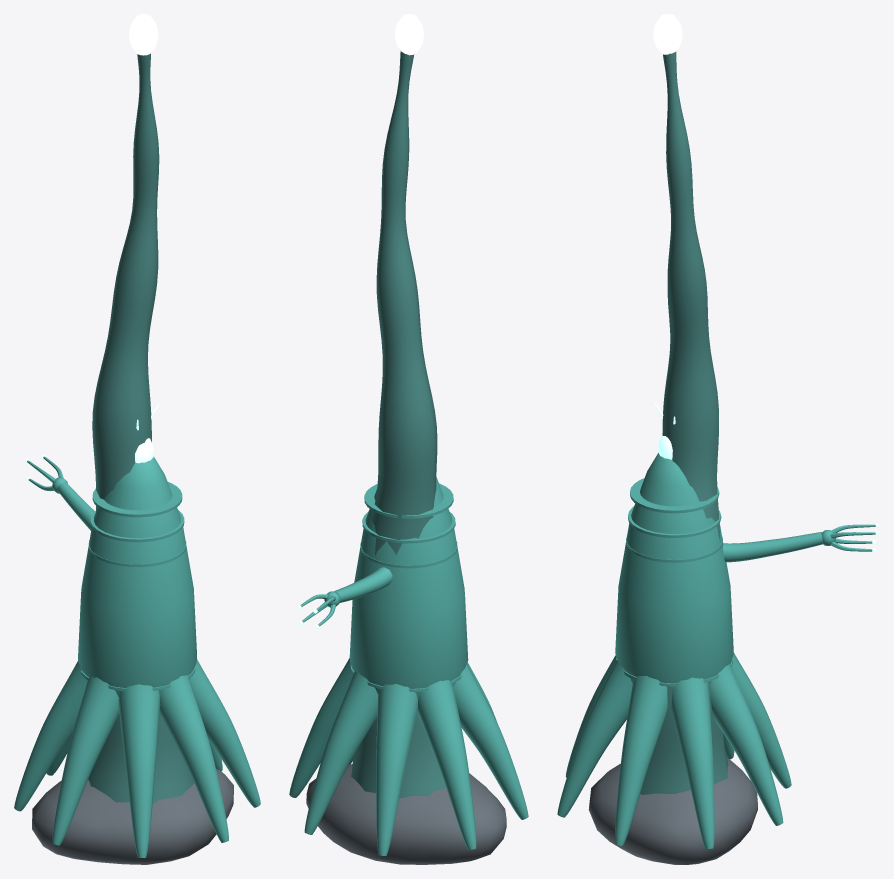
File: home.glb
3 views of the same model, side by side, from view 1: azimuth 30°, elevation 25°; view 2: azimuth 150°, elevation 25°; view 3: azimuth 270°, elevation 25° (orthographic).
Parts seen in each view (by area): view 1: Elder_Body, Spire, Rock, Elder_Arm, SpireTip; view 2: Elder_Body, Spire, Rock, Elder_Arm, SpireTip; view 3: Elder_Body, Spire, Rock, Elder_Arm, SpireTip.
Part boxes in pixels (<box>): Elder_Body: <box>14,404,260,857</box>; Spire: <box>88,53,194,803</box>; Rock: <box>32,768,233,864</box>; Elder_Arm: <box>25,454,94,530</box>; SpireTip: <box>128,14,158,55</box>; Elder_Body: <box>289,477,528,855</box>; Spire: <box>351,51,445,798</box>; Rock: <box>306,764,506,864</box>; Elder_Arm: <box>297,567,392,629</box>; SpireTip: <box>394,14,424,55</box>; Elder_Body: <box>557,401,791,849</box>; Spire: <box>640,51,728,794</box>; Rock: <box>588,758,757,864</box>; Elder_Arm: <box>723,523,879,562</box>; SpireTip: <box>653,14,682,54</box>.
Bounding box in the file's own units: 1.42 × 5.46 × 1.95.
